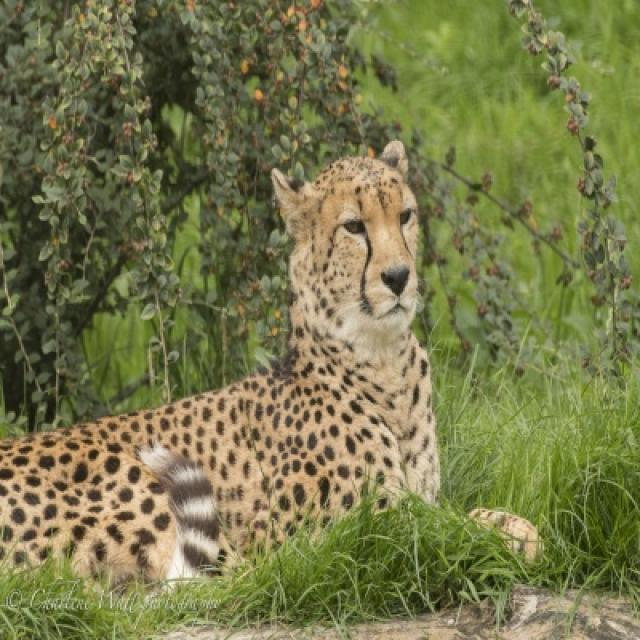Cheetah: (0, 146, 443, 590)
